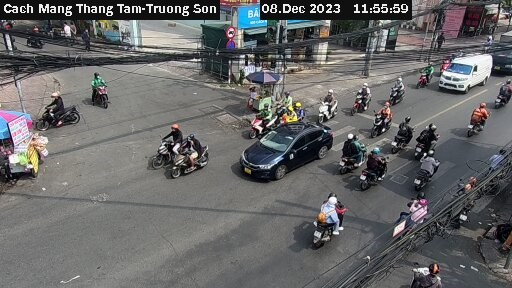car: (239, 117, 330, 184), (442, 48, 494, 96)
motorbike: (298, 195, 353, 253), (34, 87, 84, 132), (361, 154, 406, 200), (78, 67, 123, 104), (169, 136, 208, 177), (148, 126, 183, 164), (408, 261, 452, 288), (313, 87, 346, 122), (410, 149, 442, 185), (337, 134, 367, 171), (392, 115, 418, 156), (468, 100, 492, 139), (369, 107, 398, 138), (348, 77, 377, 108), (412, 124, 444, 152), (382, 75, 410, 105), (250, 105, 276, 132), (414, 62, 438, 87), (271, 93, 299, 114)
truck: (488, 28, 512, 78)
